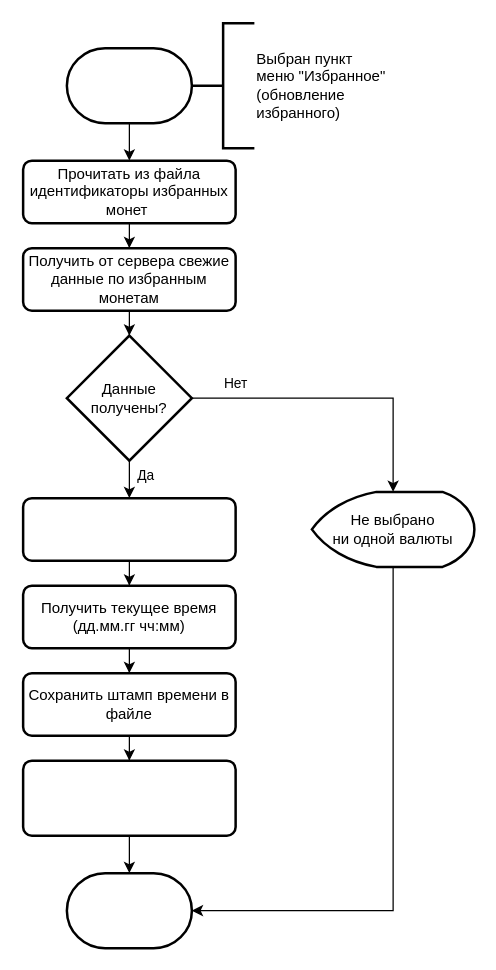
This 496x970 diagram has some shape labels left out. The box of each missing label's shape, as (x1, y1, x2, y2) in pixels:
Вызвать функцию перерисовки дашборда (Схема 1): (21, 759, 236, 836)
Сохранить данные в файл: (21, 496, 236, 561)
Схема 4 Старт: (65, 46, 192, 124)
Схема 4 Стоп: (65, 871, 192, 949)
